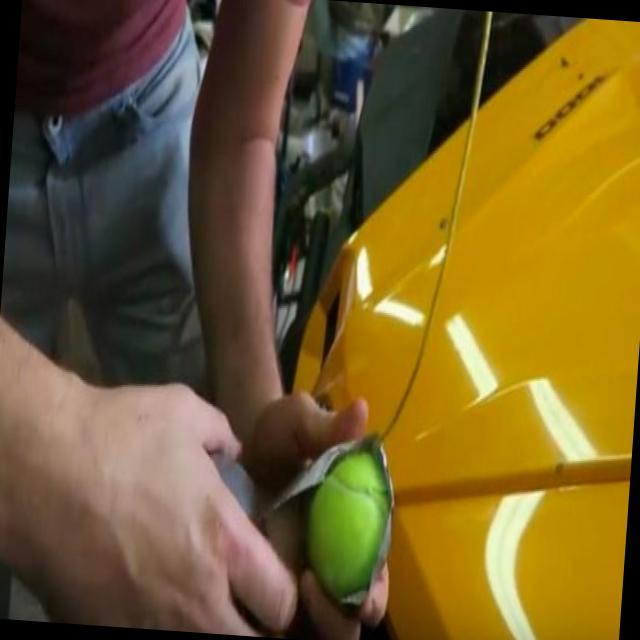tennis-ball: (306, 444, 396, 596)
